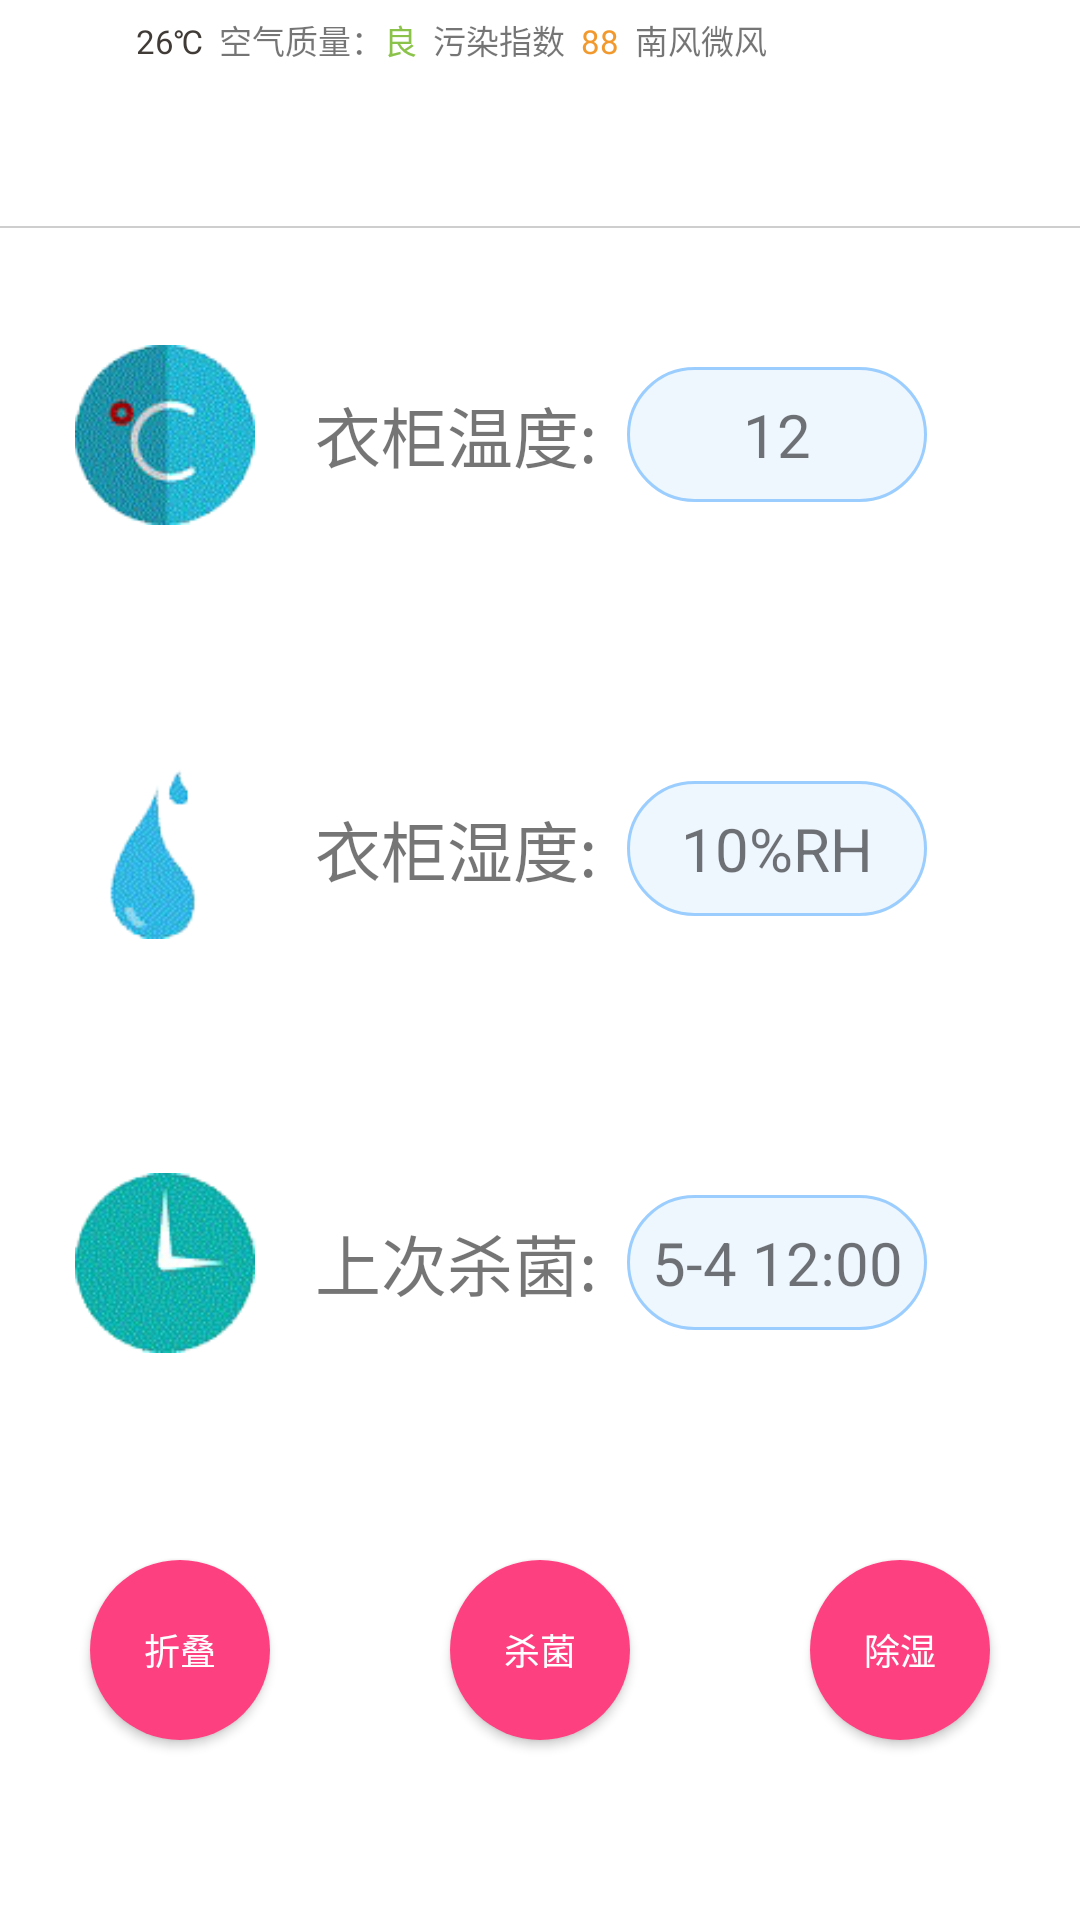

Point at icon controls on the screen. Image size 1080 × 1920, points as (x=x, y=y).
tempture: (x=165, y=435)
time: (x=165, y=1263)
water: (x=152, y=855)
